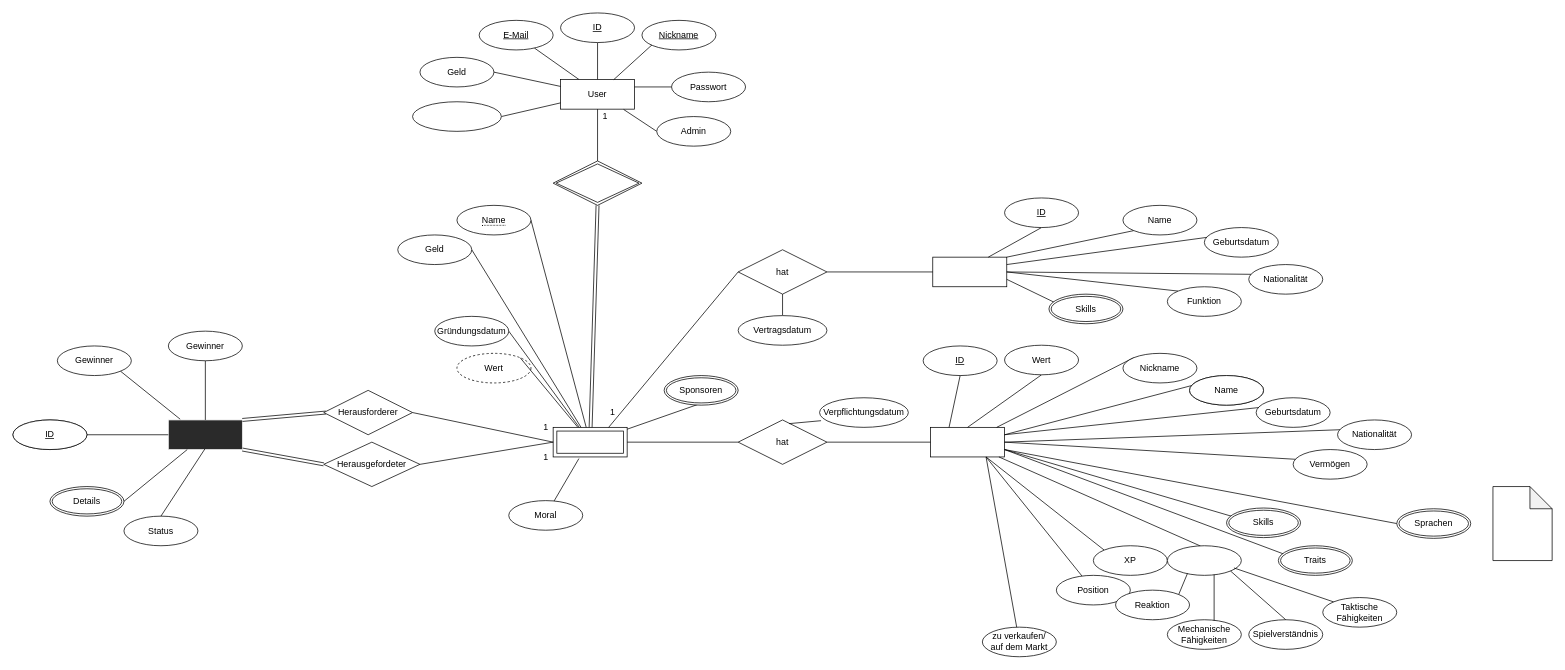
Image size: 1565x670. Some labels were removed from this diagram. Here are the shapes that lost their labels. From the top down, the box of each, then its label:
(412, 101, 501, 131): Registrierungsdatum
(552, 160, 642, 205): besitzt
(932, 256, 1007, 287): Angestellte
(168, 419, 242, 450): Match
(552, 427, 627, 457): Team
(930, 427, 1005, 457): Spieler
(1492, 486, 1552, 561): Sprachentable nicht implementiert
(1167, 545, 1241, 575): Attribute
